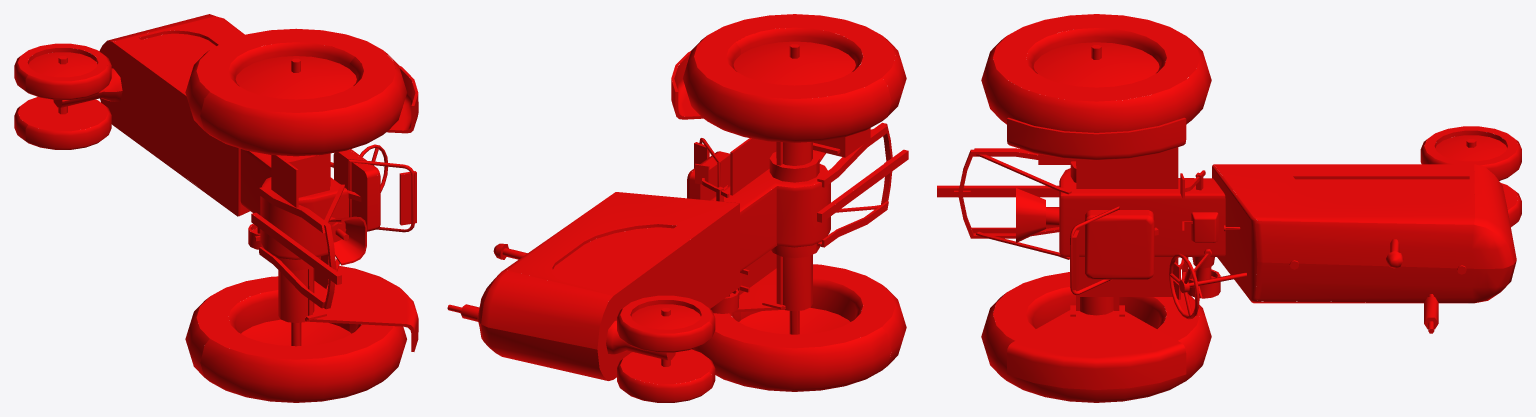
The picture shows the model from 3 angles, left to right: view 1: azimuth 30°, elevation 25°; view 2: azimuth 150°, elevation 25°; view 3: azimuth 270°, elevation 25°; orthographic projection. The views are drawn at different scales.
Visible parts, largest first — view 1: Renderer Node; view 2: Renderer Node; view 3: Renderer Node.
Boxes of the visible parts, bbox=[...] form: Renderer Node: bbox=[14, 14, 418, 402]; Renderer Node: bbox=[447, 14, 908, 402]; Renderer Node: bbox=[937, 14, 1521, 402].
Size of the model in its own units: 1.14 by 1.22 by 2.
Materials: 1 (1 with a texture image).
